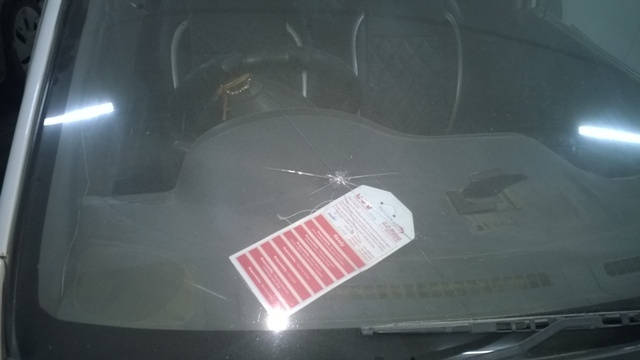Shatter: (315, 160, 381, 199)
